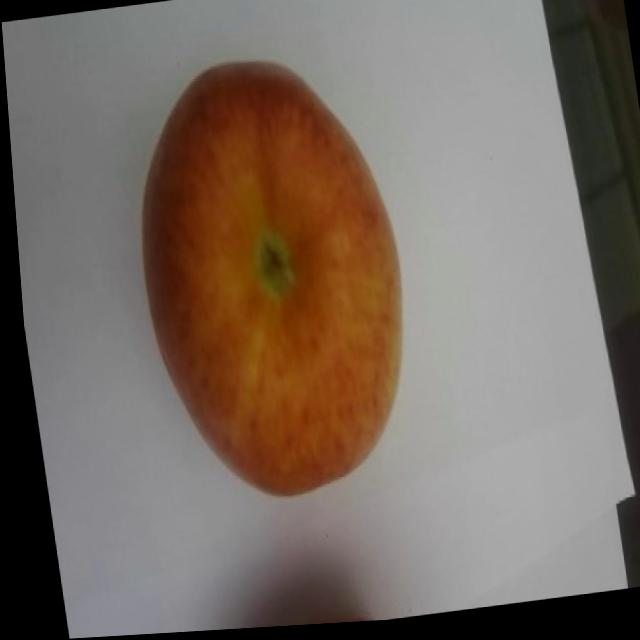Apple: (114, 50, 419, 512)
